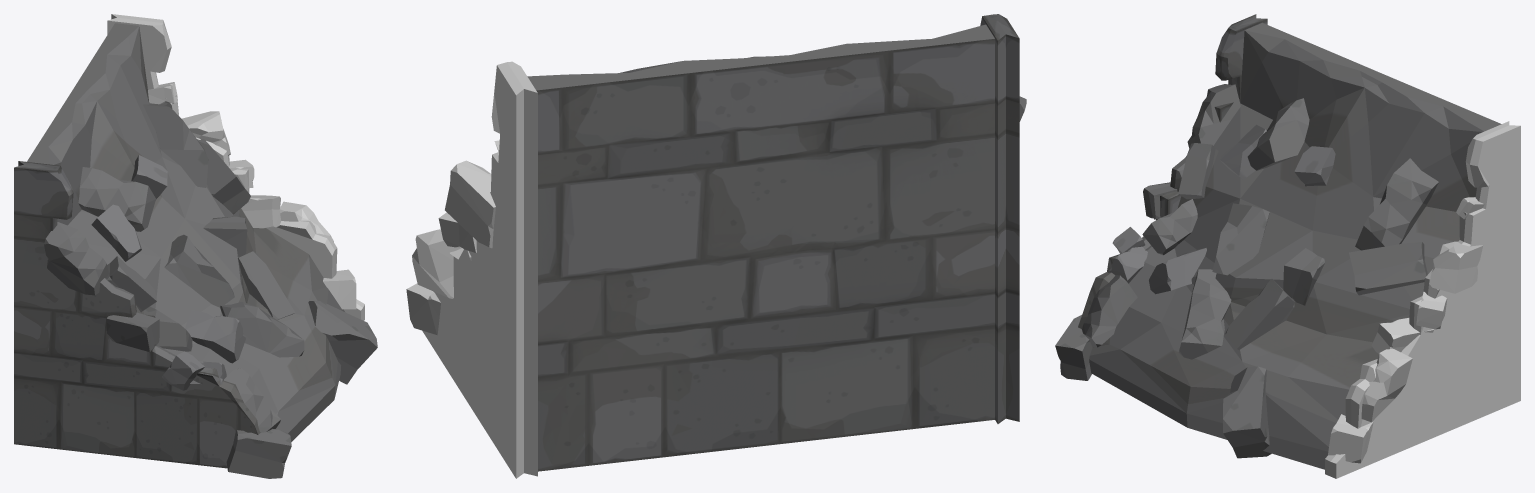
Rendered from SM_Bld_45_Wall_L_Damaged_01_Alt_01.fbx.
3 views of the same model, side by side, from view 1: azimuth 30°, elevation 25°; view 2: azimuth 150°, elevation 25°; view 3: azimuth 270°, elevation 25° (orthographic). The views are drawn at different scales.
Visible parts, largest first — view 1: SM_Bld_45_Wall_L_Damaged_01_Alt_01; view 2: SM_Bld_45_Wall_L_Damaged_01_Alt_01; view 3: SM_Bld_45_Wall_L_Damaged_01_Alt_01.
Boxes of the visible parts, <box> form: SM_Bld_45_Wall_L_Damaged_01_Alt_01: <box>14,14,377,478</box>; SM_Bld_45_Wall_L_Damaged_01_Alt_01: <box>406,14,1026,478</box>; SM_Bld_45_Wall_L_Damaged_01_Alt_01: <box>1055,14,1520,478</box>.
Bounding box in the file's own units: 887 × 628 × 920.
